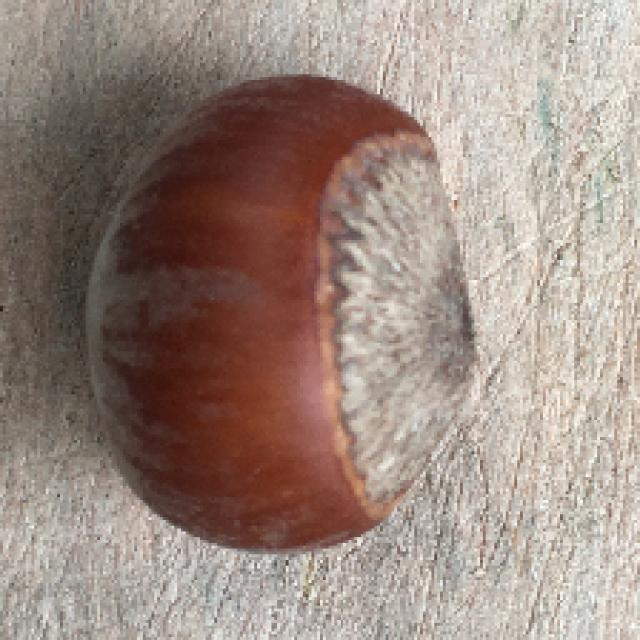qualityHazelnut: (72, 70, 486, 554)
